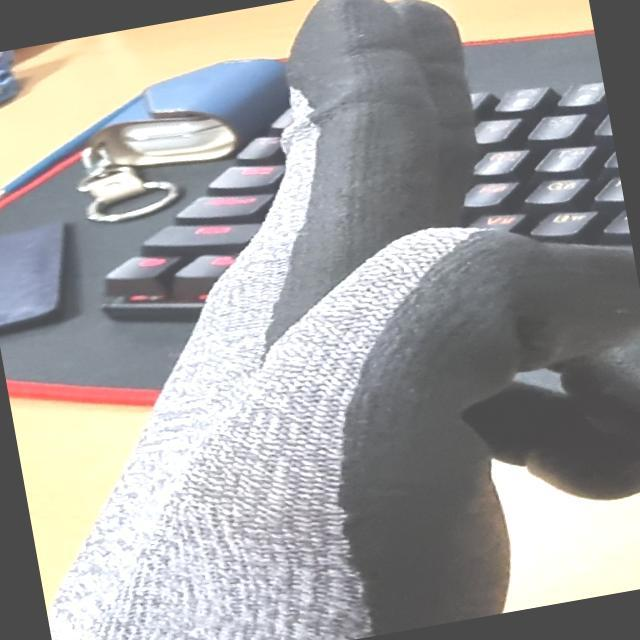Gloves: (115, 0, 640, 639)
